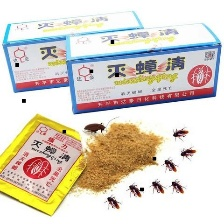book: (60, 16, 224, 119), (0, 9, 149, 95)
insecticide: (0, 112, 92, 216)
